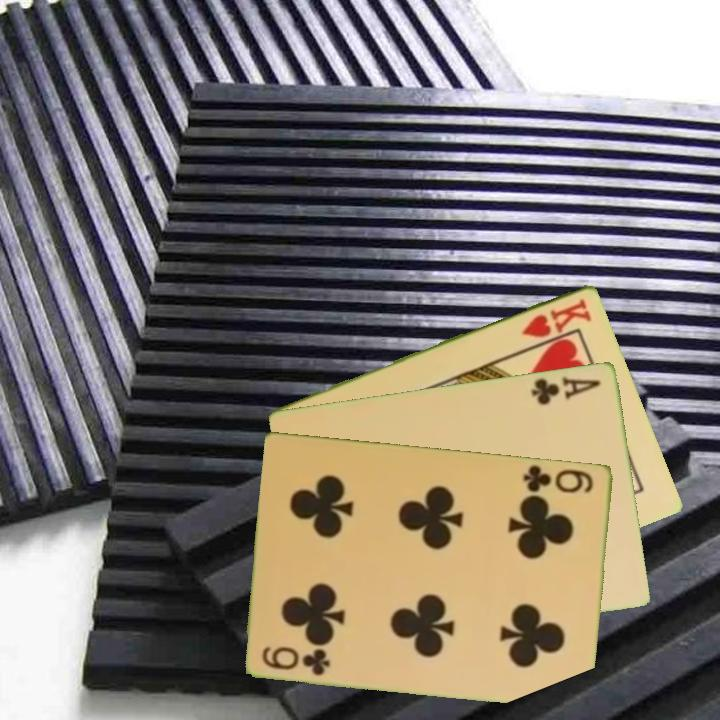6c: (259, 642, 333, 678), (520, 461, 596, 496)
Ac: (528, 372, 603, 408)
Kh: (518, 294, 595, 340)
